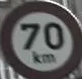Speed limit: (6, 6, 73, 71)
